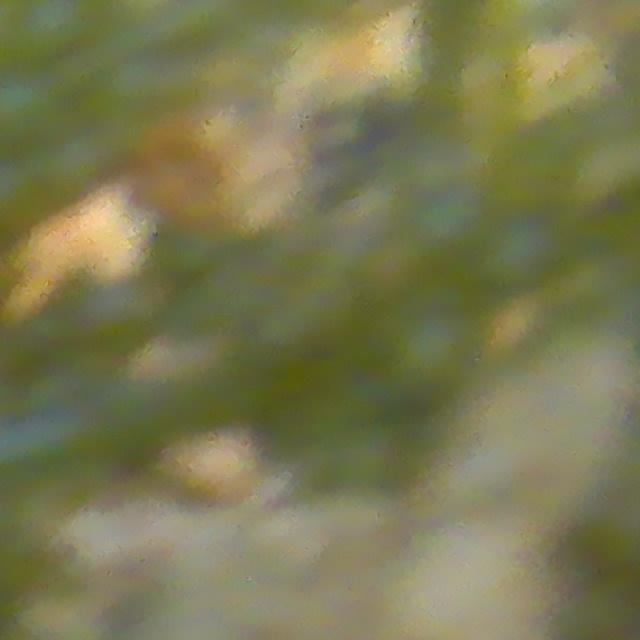SeaGrape: (397, 308, 472, 390), (17, 0, 107, 59), (0, 65, 61, 145), (480, 227, 557, 286), (411, 200, 484, 257)
